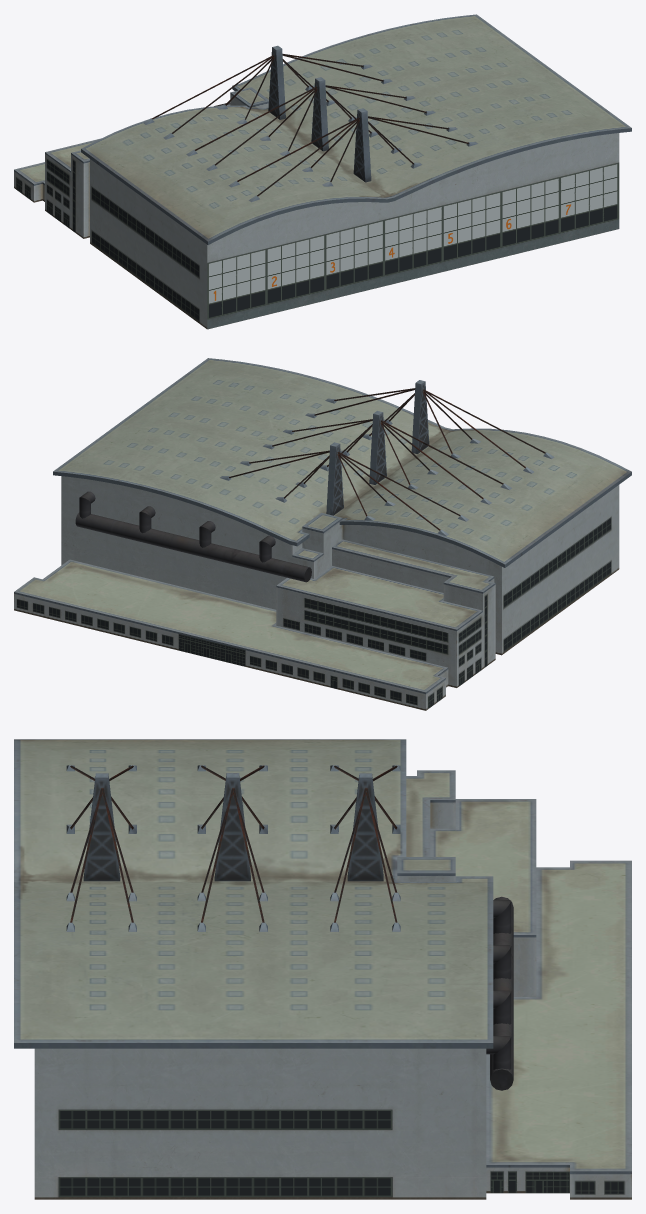
The model's file is Building.fbx.
The picture shows the model from 3 angles, top to bottom: view 1: azimuth 30°, elevation 25°; view 2: azimuth 150°, elevation 25°; view 3: azimuth 270°, elevation 25°; orthographic projection. The views are drawn at different scales.
Parts seen in each view (by area): view 1: BUildings; view 2: BUildings; view 3: BUildings.
Boxes of the visible parts, x1,y1,x2,y2 form: BUildings: (14,14,631,329); BUildings: (14,358,631,710); BUildings: (14,739,631,1199).
Bounding box in the file's own units: 6483 × 2340 × 5299.
